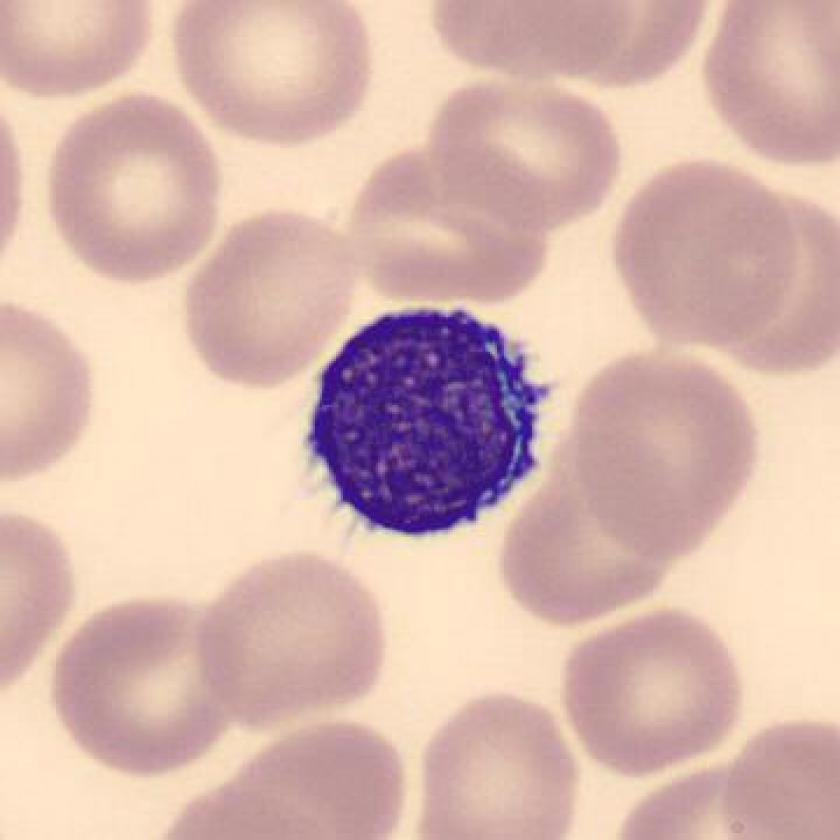lymphocyte: (295, 295, 563, 554)
